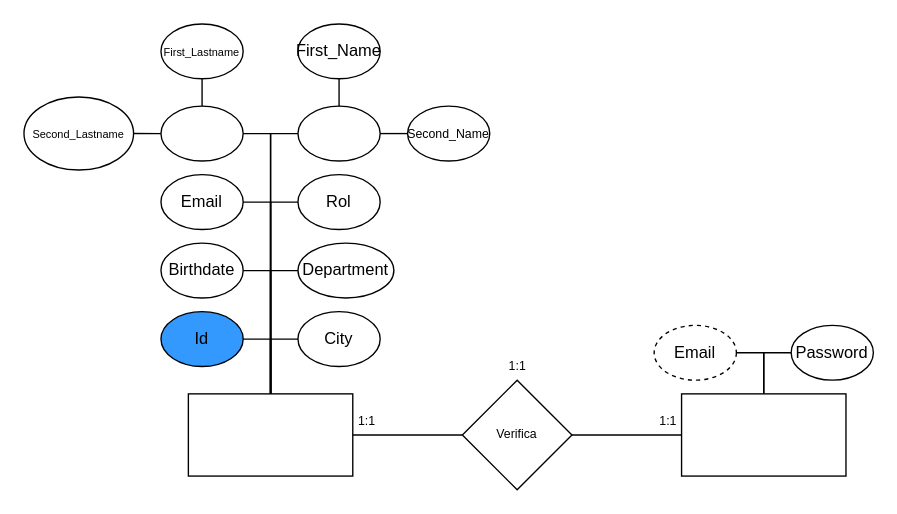
The diagram is 897 pixels wide and 514 high, and some of its shapes have lost their labels. The shapes that lost their labels are listed below. From the top down, each one's box as (x1, y1, x2, y2) in pixels, then its label:
(160, 105, 243, 161): Lastname
(297, 105, 380, 161): Name
(187, 393, 353, 476): Users
(680, 393, 846, 476): Auth_Users
